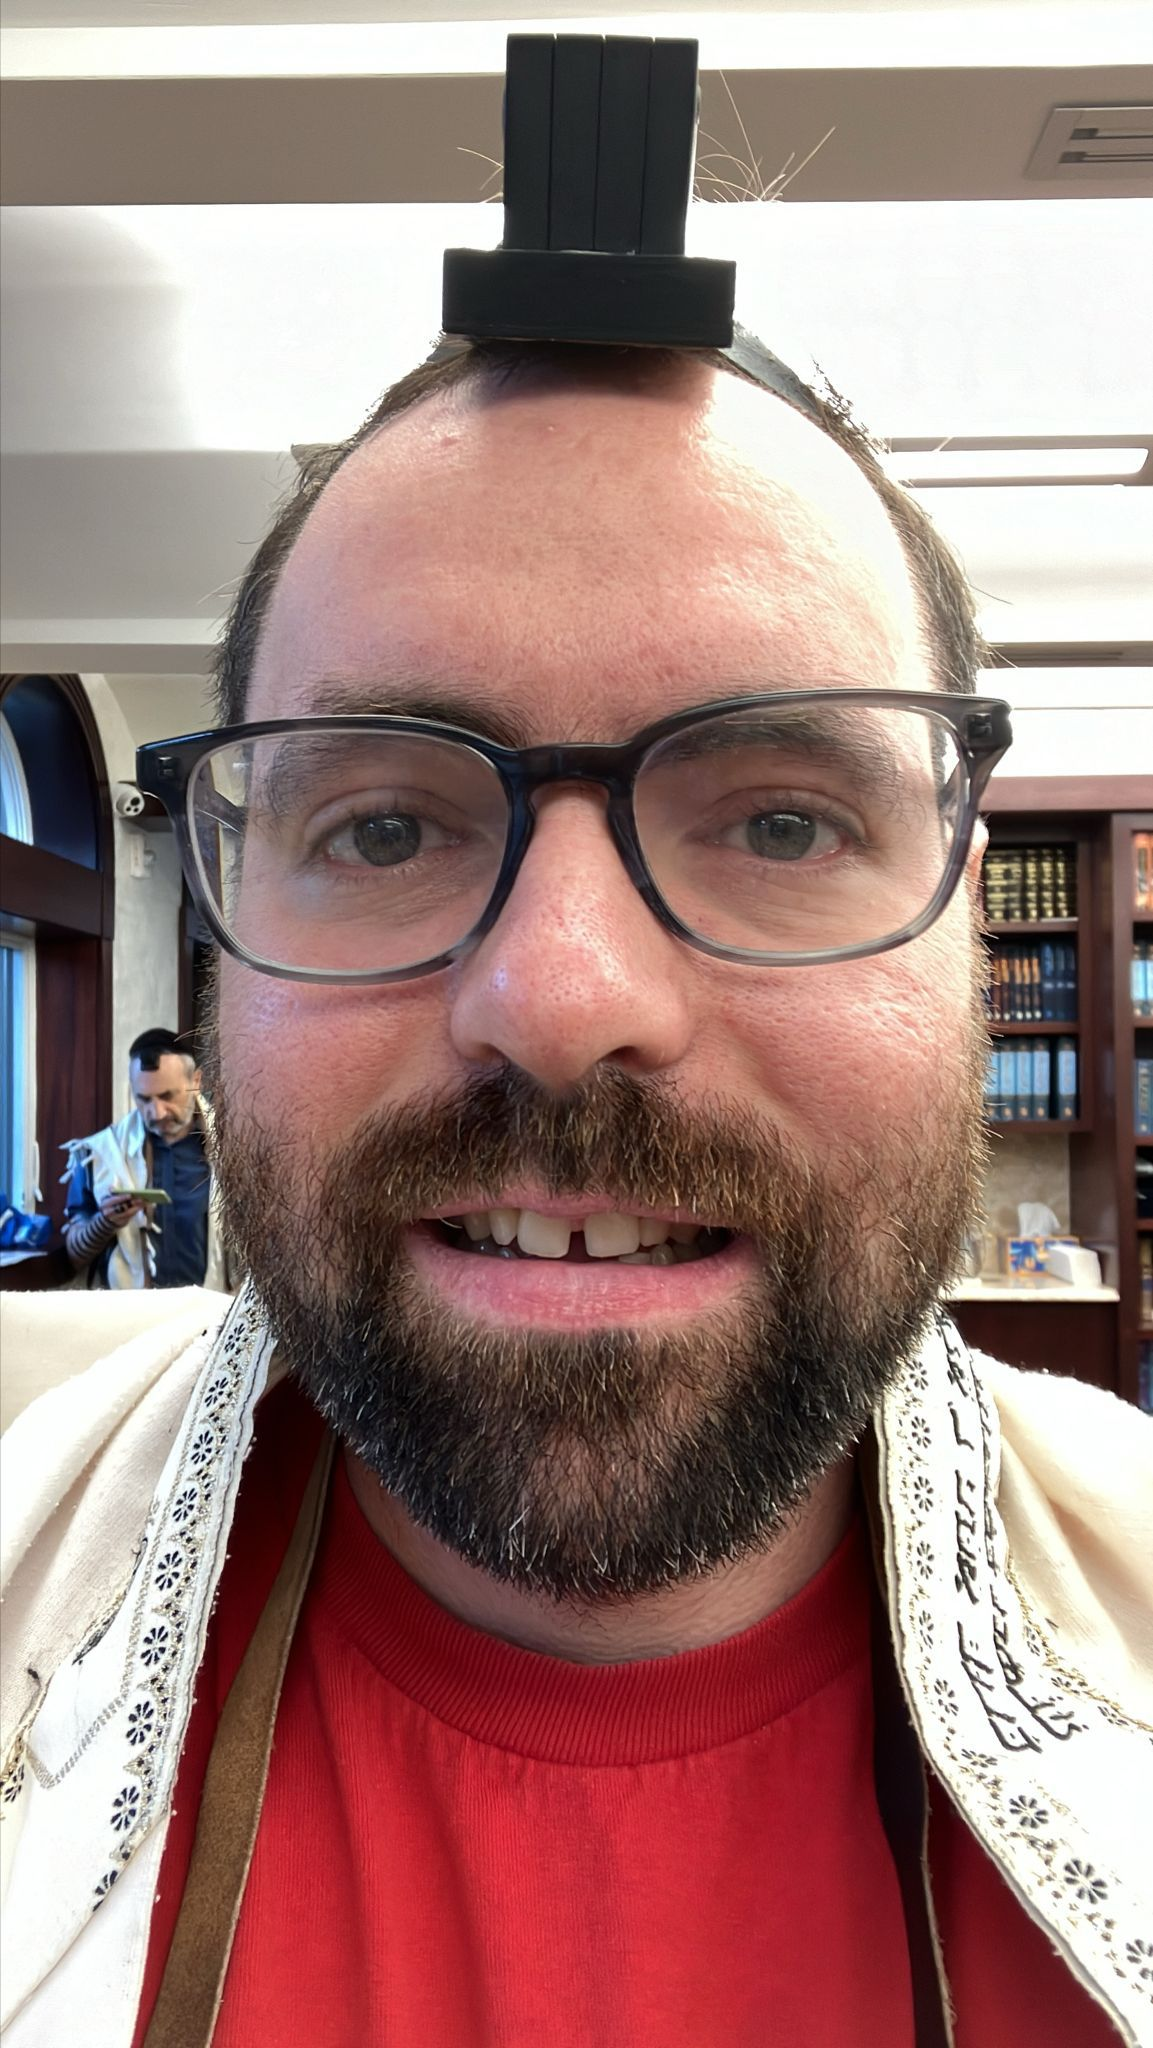tefillin: (443, 28, 734, 352)
